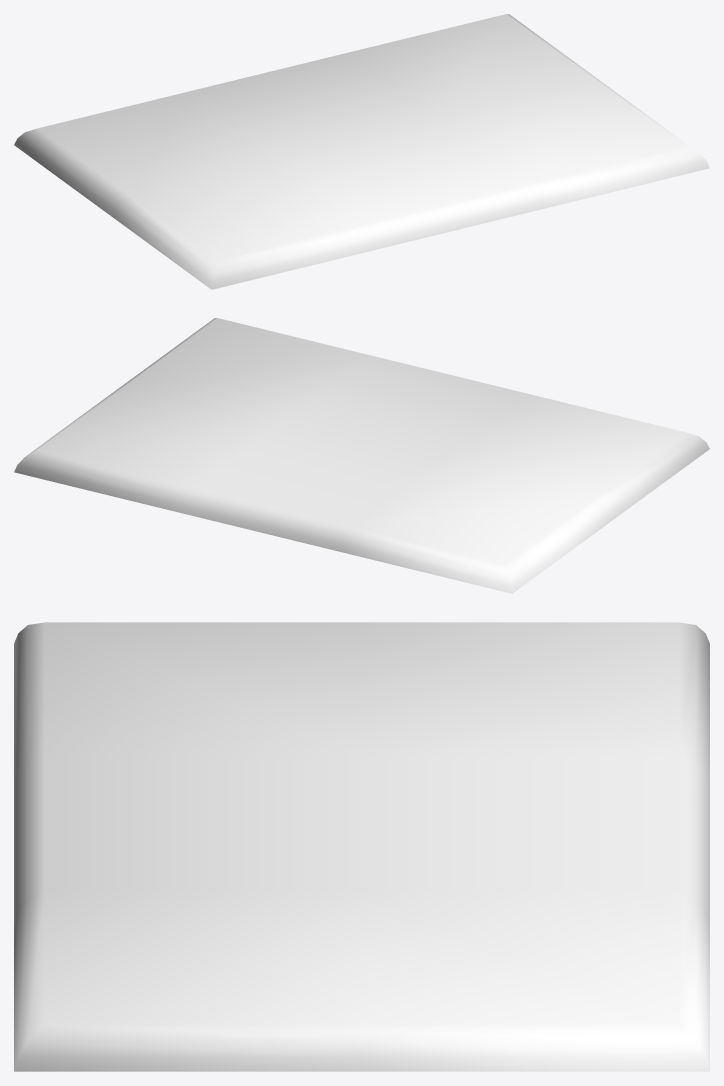
Rendered from Platform_Med.fbx.
The picture shows the model from 3 angles, top to bottom: view 1: azimuth 30°, elevation 25°; view 2: azimuth 150°, elevation 25°; view 3: azimuth 270°, elevation 25°; orthographic projection. The views are drawn at different scales.
Visible parts, largest first — view 1: Plane.001; view 2: Plane.001; view 3: Plane.001.
Part boxes in pixels (x1,y1,x2,y2): Plane.001: (14,14,709,289); Plane.001: (14,318,709,593); Plane.001: (14,622,709,1071).
Size of the model in its own units: 1131 by 42.22 by 778.
